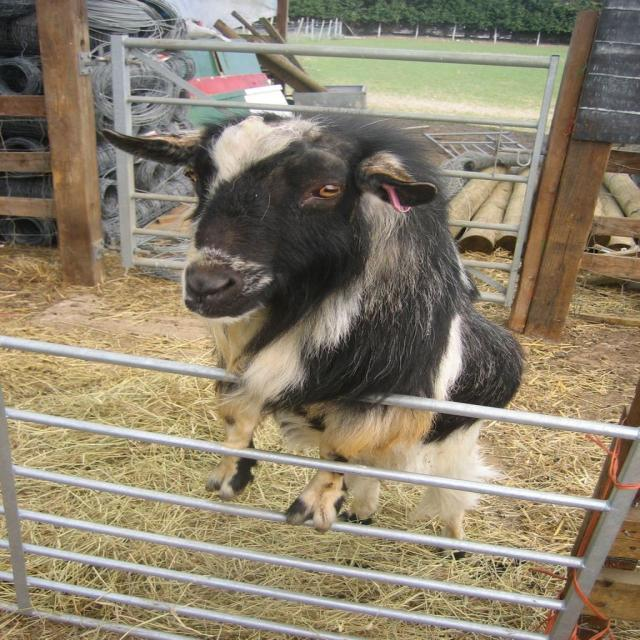Goat: (100, 108, 527, 559)
